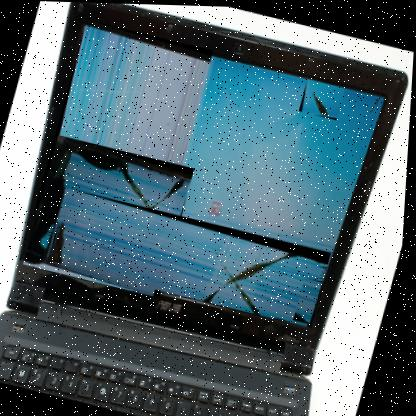crack: (24, 134, 198, 299)
lines: (49, 187, 337, 327), (35, 19, 215, 242)
spot: (299, 76, 347, 119), (296, 275, 326, 323), (365, 95, 383, 118)
